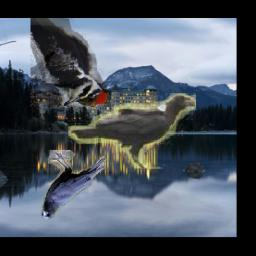Crow: (68, 93, 196, 169), (40, 151, 106, 220)
Woodpecker: (31, 18, 112, 107)
